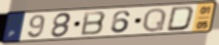6: (111, 10, 131, 34)
8: (49, 11, 72, 39)
9: (26, 14, 46, 38)
B: (79, 10, 108, 37)
D: (165, 5, 196, 32)
Q: (141, 6, 169, 33)
